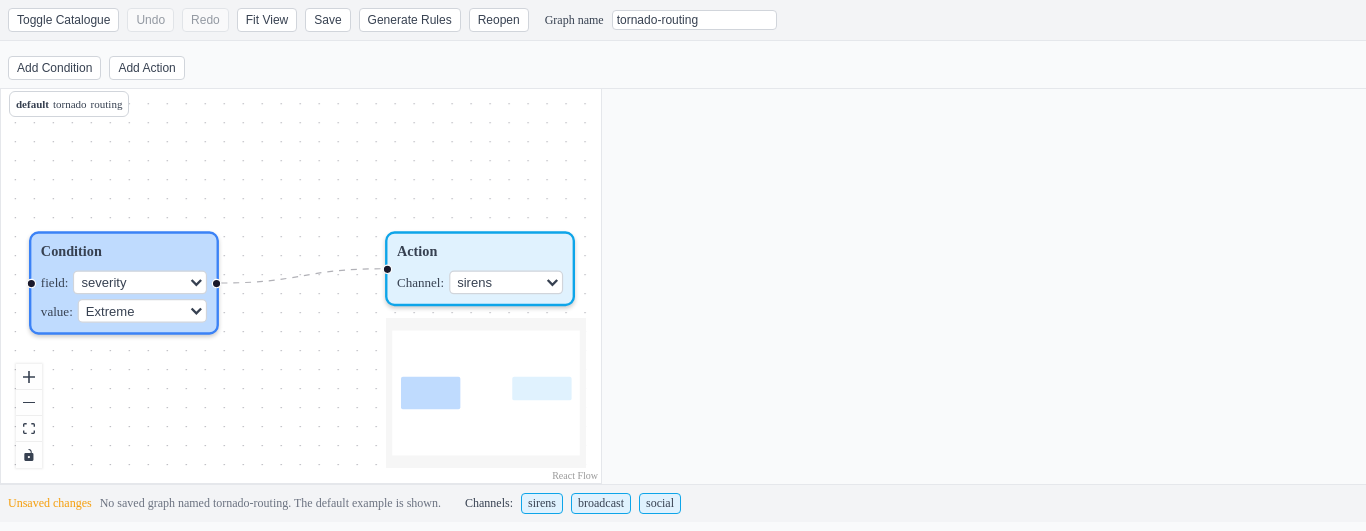
Test: AlertRuleDesigner behaviour › records each edit as its own undo step
Expected: the button "Undo" is disabled, [127,8,174,32]
Click the button "Add Condition" at [55, 68], box [8,56,101,80]
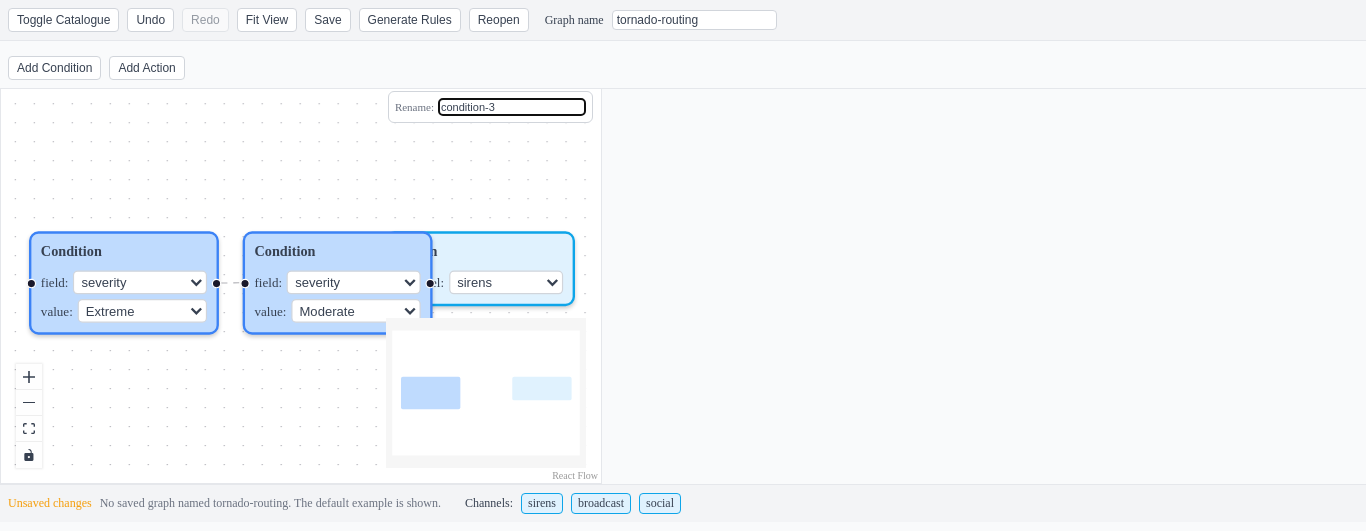
Click the button "Add Condition" at [55, 68], box [8,56,101,80]
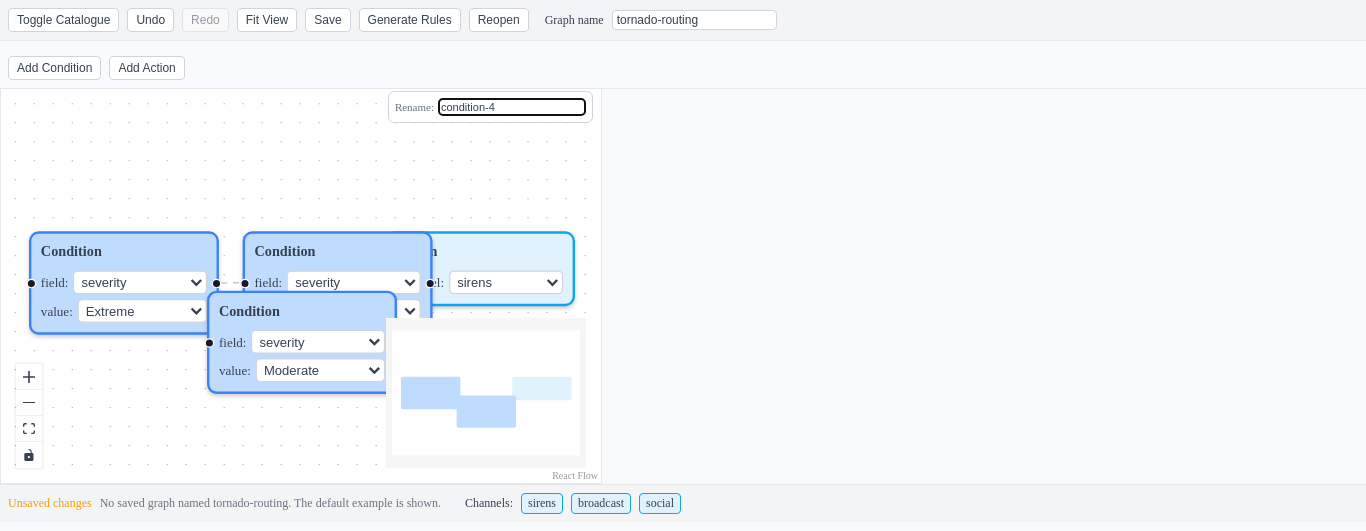
Expected: the button "Undo" is enabled
first undo leaves a further undo available (two edits were recorded)
Click the button "Undo" at [151, 20], box [127,8,174,32]
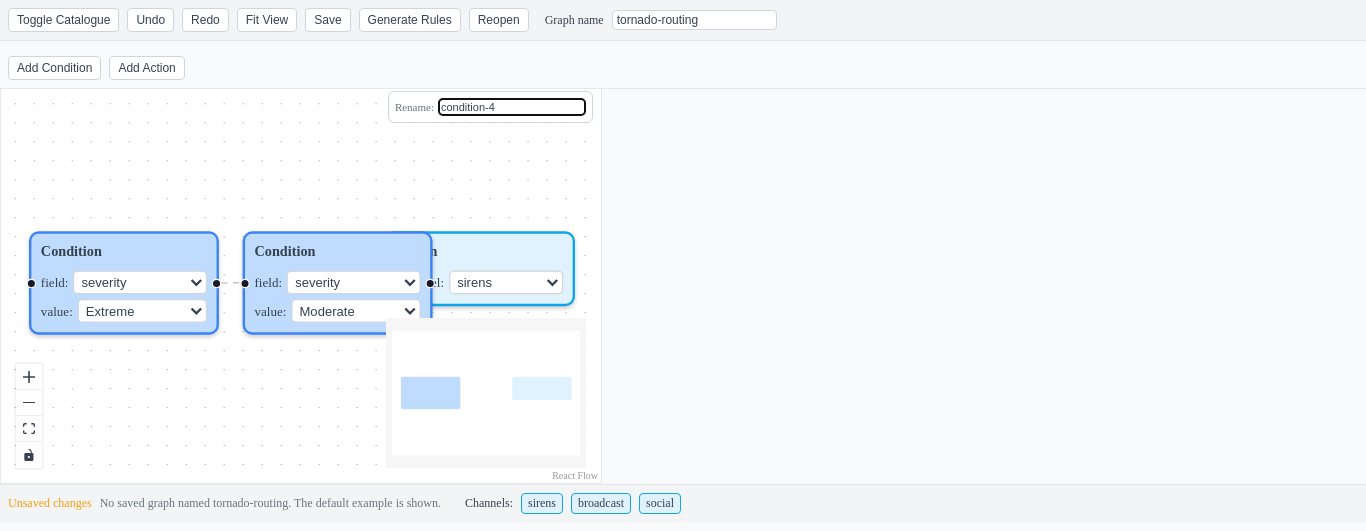
Expected: the button "Undo" is enabled, [127,8,174,32]
Expected: the button "Redo" is enabled, [182,8,229,32]
